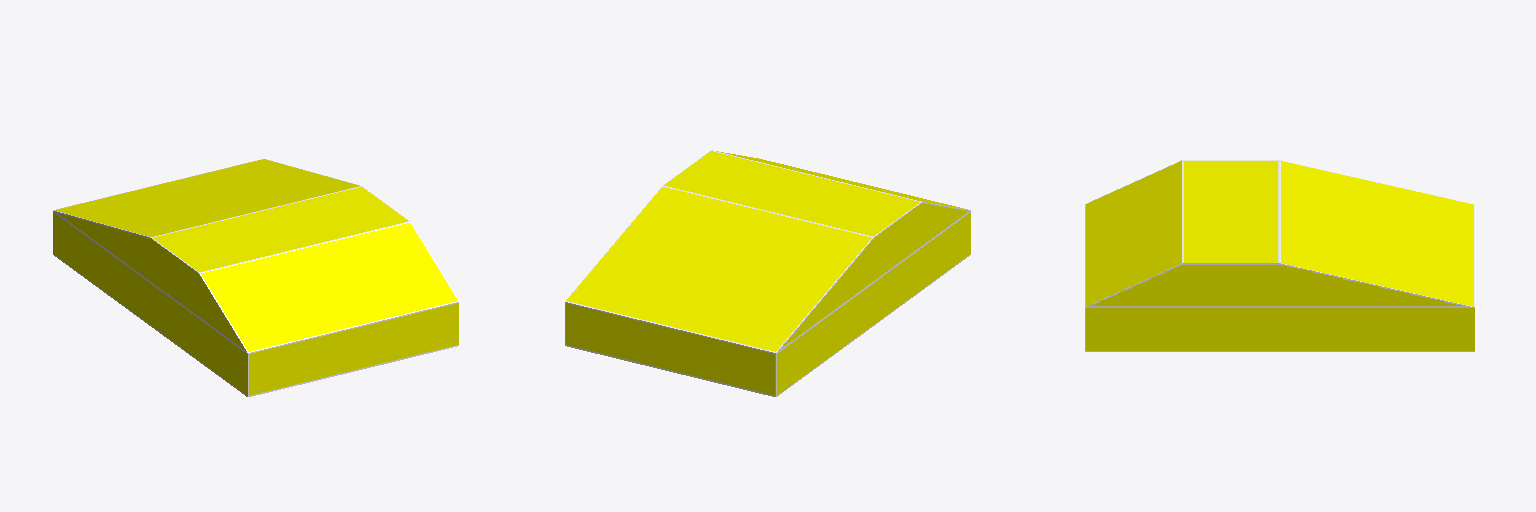
The picture shows the model from 3 angles: view 1: azimuth 30°, elevation 25°; view 2: azimuth 150°, elevation 25°; view 3: azimuth 270°, elevation 25°; orthographic projection.
Parts seen in each view (by area): view 1: Cube3; view 2: Cube3; view 3: Cube3.
Boxes of the visible parts, x1,y1,x2,y2 form: Cube3: [53, 159, 458, 396]; Cube3: [565, 150, 970, 396]; Cube3: [1085, 160, 1474, 351].
Size of the model in its own units: 5 by 2 by 8.
Materials: 1 (1 with a texture image).